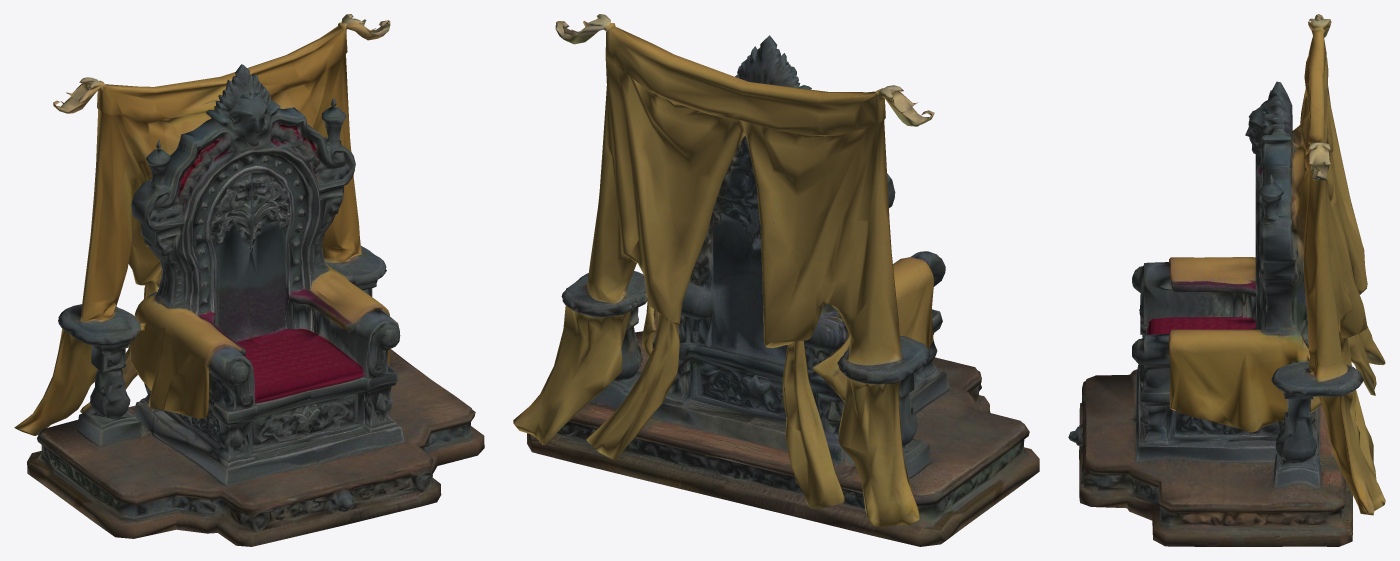
The model's file is throne.glb.
The picture shows the model from 3 angles, left to right: view 1: azimuth 30°, elevation 25°; view 2: azimuth 150°, elevation 25°; view 3: azimuth 270°, elevation 25°; orthographic projection. The views are drawn at different scales.
Parts seen in each view (by area): view 1: mesh_node; view 2: mesh_node; view 3: mesh_node.
Boxes of the visible parts, box(x1,y1,x2,y2) form: mesh_node: box(14, 14, 484, 546); mesh_node: box(513, 14, 1039, 546); mesh_node: box(1068, 14, 1385, 546).
Size of the model in its own units: 2.6 by 2.6 by 1.98.
Materials: 1 (1 with a texture image).
